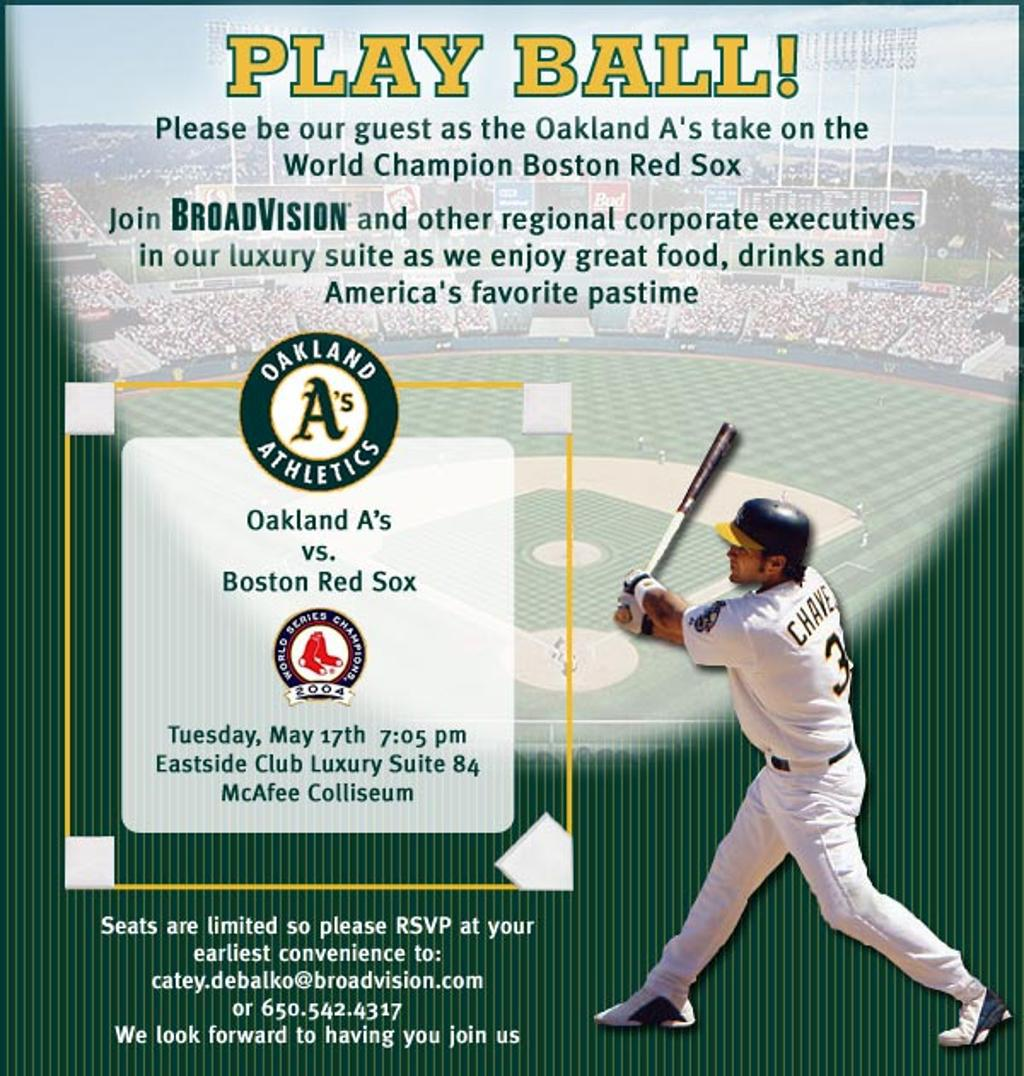face: (725, 519, 777, 586)
